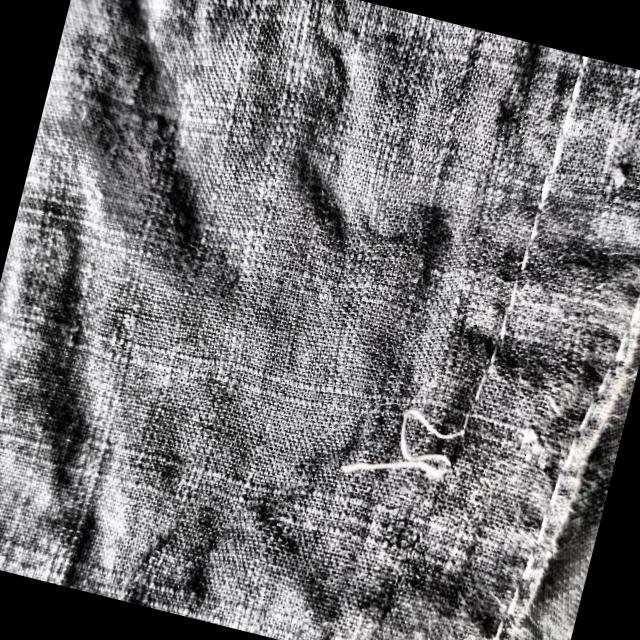gray stitch: (328, 367, 479, 548)
